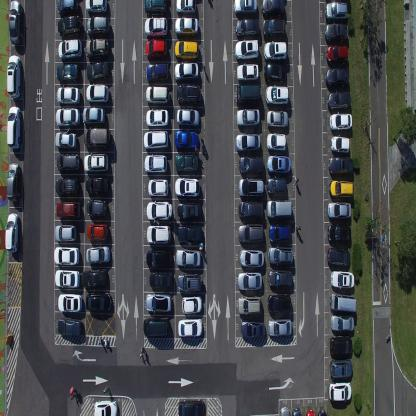car: (6, 54, 22, 99), (6, 104, 21, 150), (82, 127, 111, 150), (4, 212, 19, 254), (234, 37, 259, 62), (145, 200, 173, 222), (6, 160, 20, 204), (174, 128, 199, 152), (175, 246, 201, 269), (81, 266, 107, 289), (84, 36, 110, 59), (9, 0, 22, 46), (235, 131, 261, 154), (53, 244, 80, 266), (237, 223, 264, 245), (234, 84, 261, 106), (82, 152, 110, 173), (264, 84, 289, 107), (328, 155, 354, 177), (177, 316, 203, 338), (143, 316, 169, 338), (174, 176, 200, 198), (142, 128, 168, 150), (238, 200, 264, 222), (145, 293, 172, 314), (145, 249, 172, 270), (85, 291, 112, 312), (326, 245, 350, 268), (328, 178, 353, 200), (146, 223, 171, 245), (143, 152, 168, 174), (176, 84, 201, 106), (55, 106, 80, 128), (326, 200, 352, 221), (267, 268, 293, 289), (176, 272, 202, 293), (176, 200, 202, 221), (266, 198, 292, 219), (265, 153, 291, 174), (238, 156, 264, 177), (86, 59, 109, 82), (57, 15, 80, 38), (268, 316, 292, 338), (329, 358, 353, 380), (329, 335, 353, 357), (58, 292, 82, 314), (146, 84, 170, 106), (174, 15, 198, 37), (144, 16, 168, 38), (85, 82, 109, 104), (58, 38, 82, 60), (263, 40, 287, 62), (327, 223, 352, 244), (324, 22, 349, 43), (266, 293, 291, 314), (237, 294, 262, 315), (145, 107, 170, 128), (54, 175, 79, 196), (330, 292, 356, 312), (324, 68, 350, 88), (148, 270, 174, 290), (54, 268, 80, 288), (174, 40, 200, 60), (238, 177, 264, 197), (329, 380, 352, 402), (324, 0, 347, 22), (262, 18, 285, 40), (266, 108, 289, 130), (327, 90, 351, 111), (177, 398, 205, 416), (238, 271, 262, 292), (57, 316, 81, 337), (175, 152, 199, 173), (176, 107, 200, 128), (236, 107, 260, 128), (330, 313, 355, 333), (330, 269, 355, 289), (55, 152, 80, 172), (235, 17, 260, 37), (239, 249, 265, 268), (326, 44, 349, 65), (145, 39, 168, 60), (264, 62, 287, 83), (86, 244, 110, 264), (56, 199, 80, 219), (82, 106, 106, 126), (56, 86, 80, 106), (85, 15, 109, 35), (268, 246, 293, 265), (174, 61, 199, 80), (240, 320, 266, 338), (177, 225, 203, 243), (147, 176, 168, 198), (54, 223, 77, 243), (145, 62, 168, 82), (56, 62, 79, 82), (268, 223, 291, 243), (93, 398, 118, 416), (86, 197, 107, 218), (266, 131, 287, 152), (181, 294, 203, 314), (329, 112, 352, 131), (86, 223, 109, 242), (236, 63, 259, 82), (261, 0, 285, 18), (85, 176, 109, 194), (54, 130, 77, 148), (330, 134, 350, 154), (266, 176, 287, 195), (143, 0, 168, 15), (233, 0, 258, 15), (85, 0, 108, 15), (175, 0, 196, 15), (56, 0, 76, 15), (279, 404, 290, 415), (291, 408, 302, 416), (318, 408, 327, 416), (305, 408, 315, 415)
